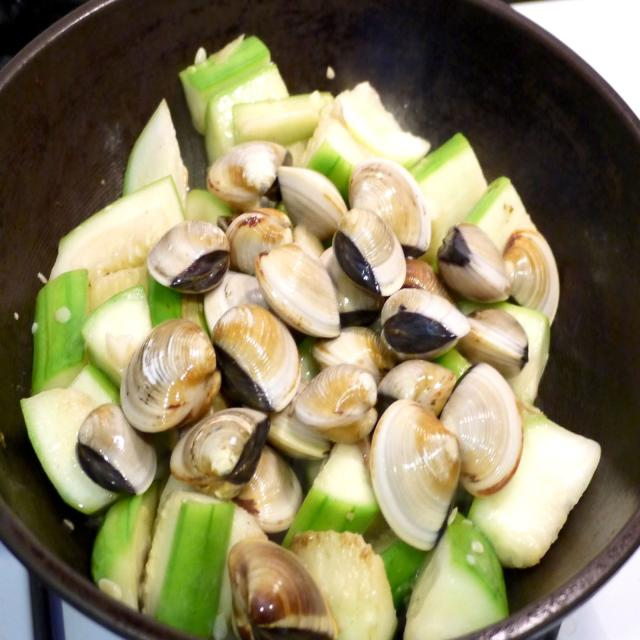Wet: (57, 67, 530, 607)
